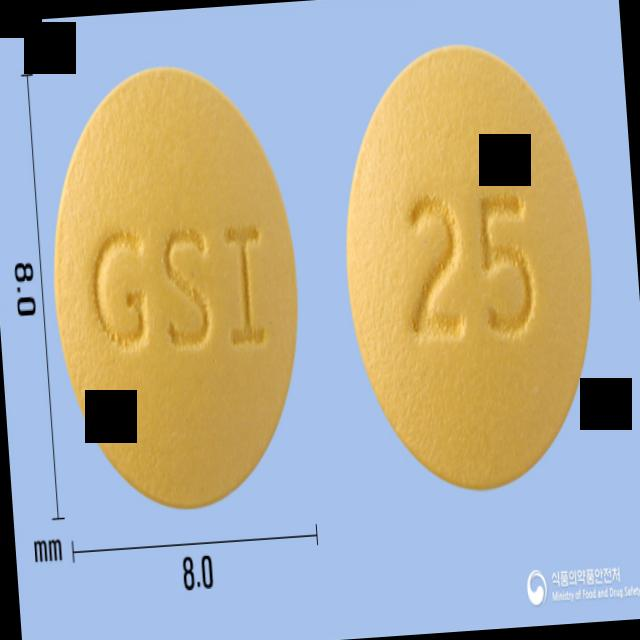Vemlidy Tab: (331, 31, 607, 499), (38, 53, 312, 518)
